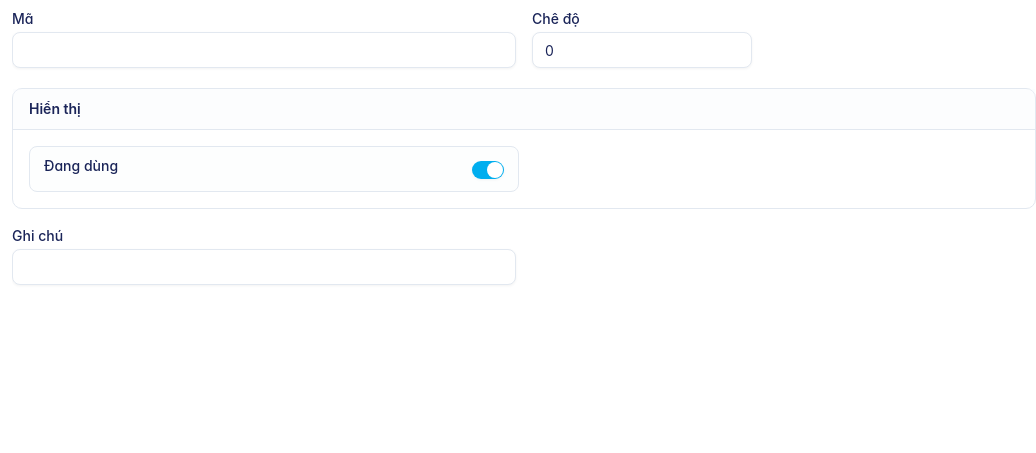
Scenario: CrudFormFields › hiện lại NGAY khi giá trị điều kiện đổi, không đợi lưu
The width and height of the screenshot is (1036, 453).
Replace the text in the number field labelled "Chế độ" with "2" at (642, 50), box [532,32,752,68]
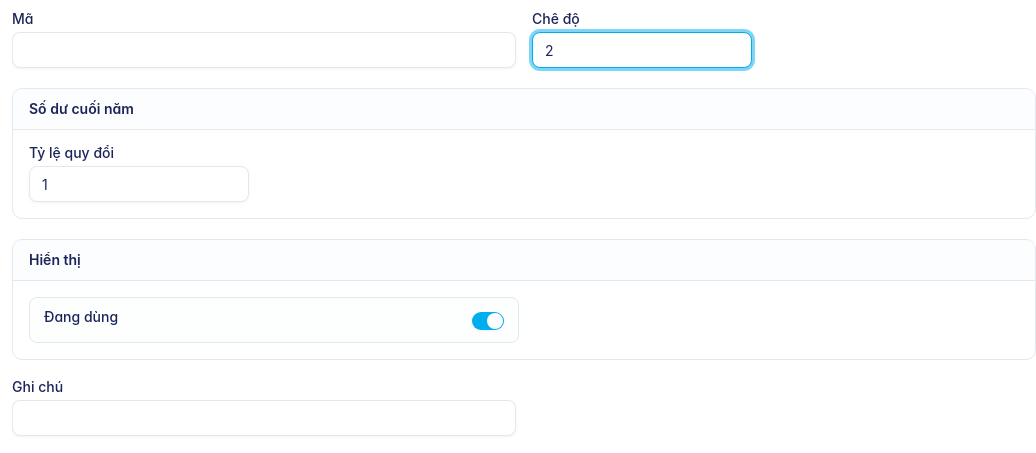
Now the number field labelled "Tỷ lệ quy đổi" is shown, box [29,166,249,202]
Now the heading "Số dư cuối năm" is shown, box [29,100,134,117]
